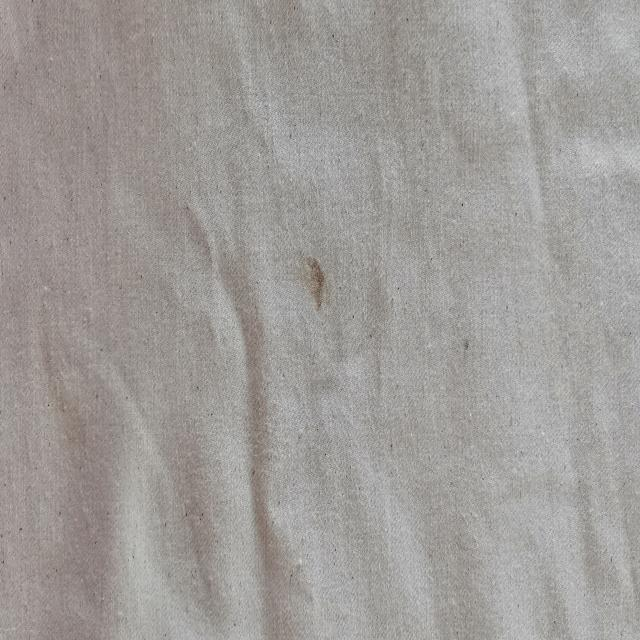taaaches: (290, 212, 332, 350)
